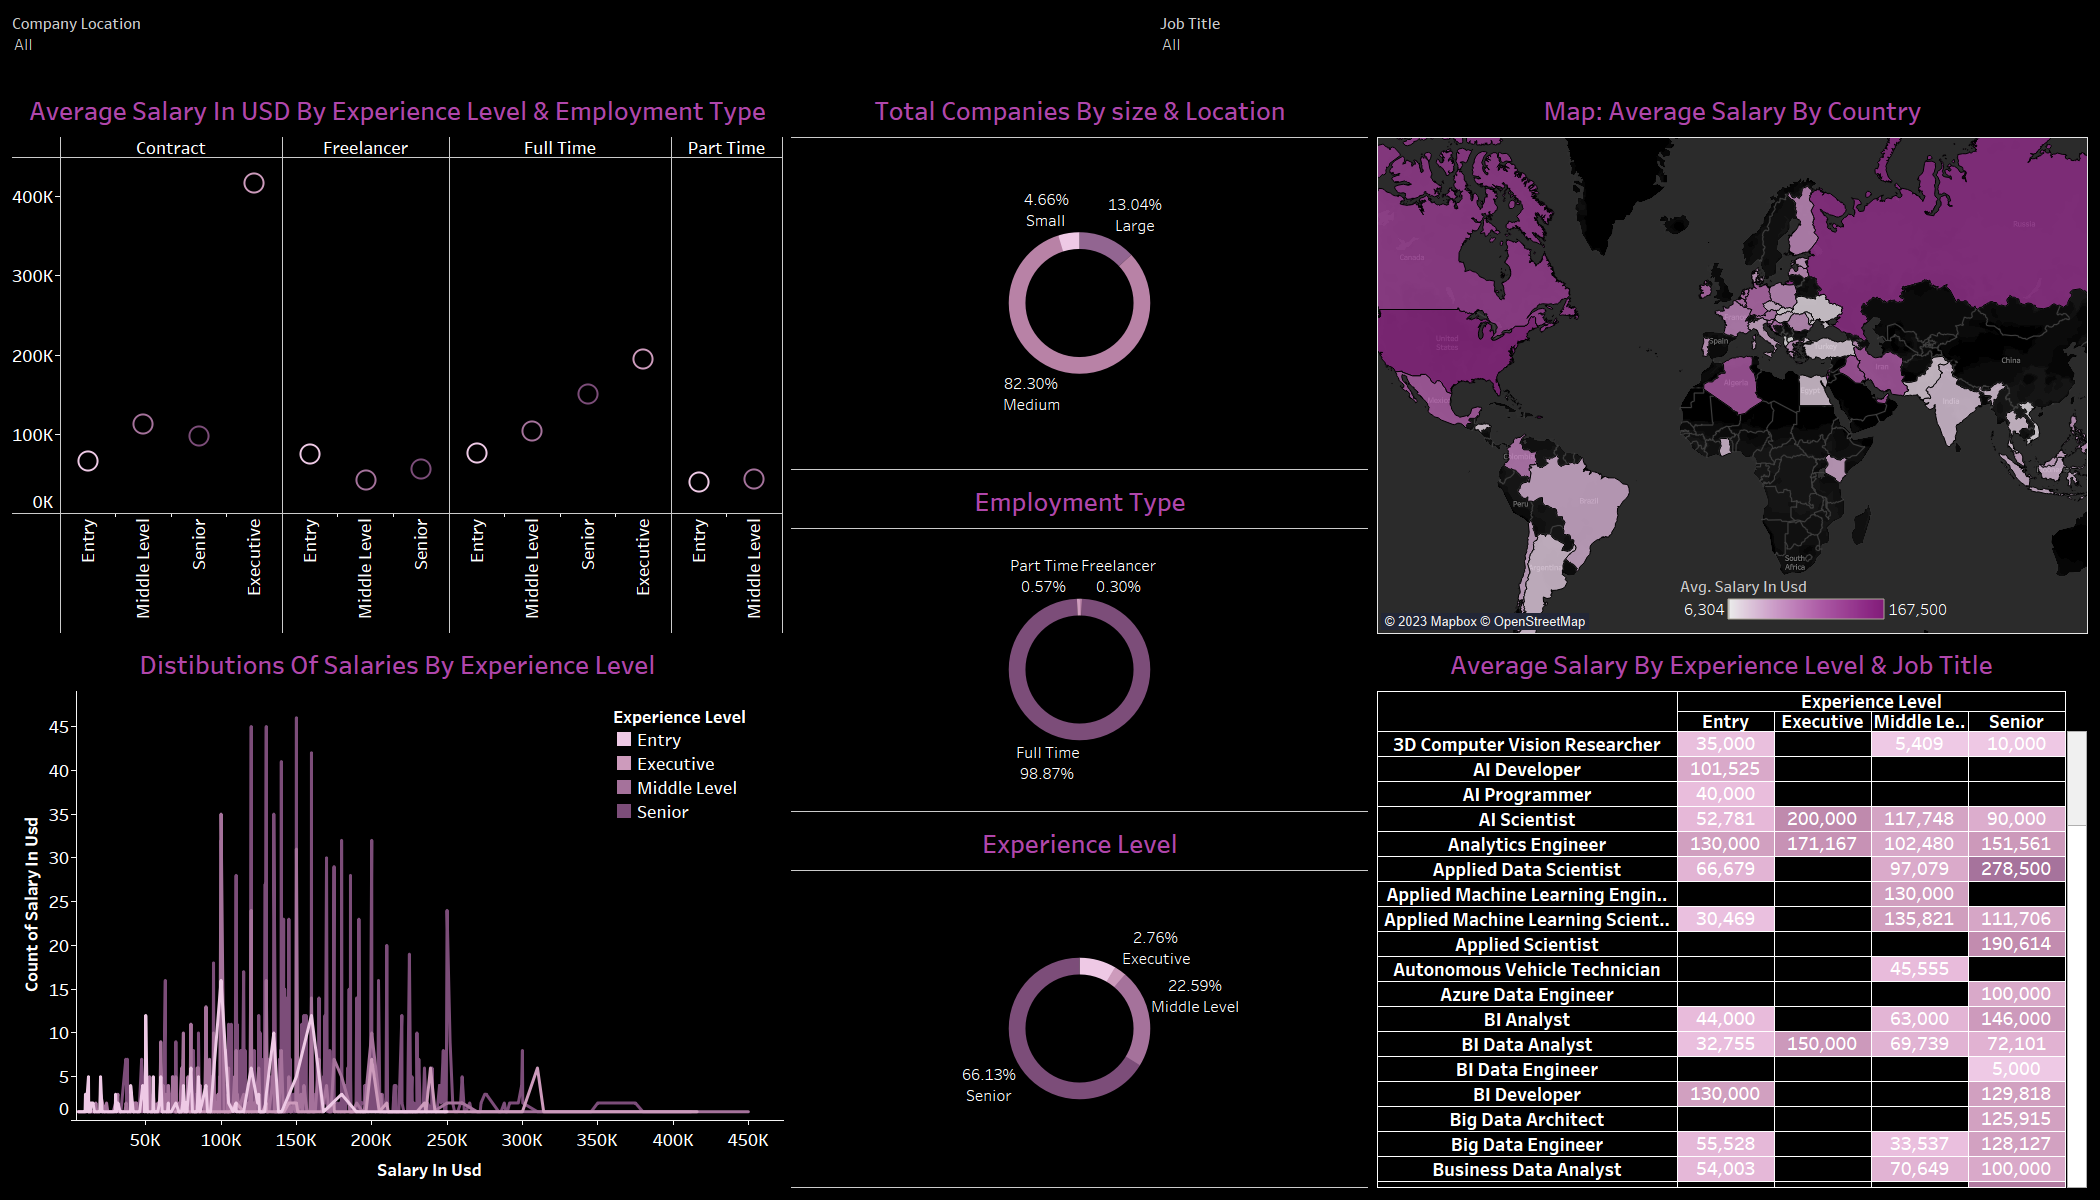

This screenshot's page, from the dashboard's own definition file:
{"tool":"tableau","page":{"name":"Dashboard 1","canvas":[2100,1200],"ordinal":0},"visuals":[{"type":"filter","title":"Experience Level","param":"[federated.0nv5o521g4rbje1aduk4g1q6os63].[none:company_location:nk]","box":[8,8,1148,61]},{"type":"filter","title":"Map: Average Salary by Country ","param":"[federated.0nv5o521g4rbje1aduk4g1q6os63].[none:job_title:nk]","box":[1156,8,936,75]},{"type":"worksheet","title":"Average Salary in USD by experience level & employment type","mark":"Shape","rows":["salary_in_usd"],"cols":["employment_type","experience_level"],"box":[8,83,779,554.5]},{"type":"worksheet","title":"Total Companies by size & Location ","mark":"Pie","rows":["Calculation_1147854958966808577","Calculation_1147854958966808577"],"box":[787,83,586,391]},{"type":"worksheet","title":"Map: Average Salary by Country ","mark":"Automatic","box":[1373,83,719,554.5]},{"type":"worksheet","title":"Employment Type","mark":"Pie","rows":["Calculation_1147854958966808577","Calculation_1147854958966808577"],"box":[787,474,586,342]},{"type":"legend","title":"Map: Average Salary by Country ","param":"[federated.0nv5o521g4rbje1aduk4g1q6os63].[avg:salary_in_usd:qk]","box":[1680,572,272,74]},{"type":"worksheet","title":"Distibutions of Salaries by Experience Level","mark":"Automatic","rows":["salary_in_usd"],"cols":["salary_in_usd"],"box":[8,637.5,779,554.5]},{"type":"worksheet","title":"Average Salary by Experience Level & Job Title","mark":"Square","rows":["job_title"],"cols":["experience_level"],"box":[1373,637.5,719,554.5]},{"type":"legend","title":"Distibutions of Salaries by Experience Level","param":"[federated.0nv5o521g4rbje1aduk4g1q6os63 (copy)].[none:experience_level:nk]","box":[612,703,140,120]},{"type":"worksheet","title":"Experience Level","mark":"Pie","rows":["Calculation_1147854958966808577","Calculation_1147854958966808577"],"box":[787,816,586,376]}]}

Visuals, with their boxes in screenshot pixels (x1, y1, x2, y2), scaled from the page's 2100x1200 canvas onto the 2100x1200 screenshot:
"Experience Level" filter: crop(8, 8, 1156, 69)
"Map: Average Salary by Country " filter: crop(1156, 8, 2092, 83)
"Average Salary in USD by experience level & employment type" worksheet (Shape marks): crop(8, 83, 787, 638)
"Total Companies by size & Location " worksheet (Pie marks): crop(787, 83, 1373, 474)
"Map: Average Salary by Country " worksheet: crop(1373, 83, 2092, 638)
"Employment Type" worksheet (Pie marks): crop(787, 474, 1373, 816)
"Map: Average Salary by Country " legend: crop(1680, 572, 1952, 646)
"Distibutions of Salaries by Experience Level" worksheet: crop(8, 638, 787, 1192)
"Average Salary by Experience Level & Job Title" worksheet (Square marks): crop(1373, 638, 2092, 1192)
"Distibutions of Salaries by Experience Level" legend: crop(612, 703, 752, 823)
"Experience Level" worksheet (Pie marks): crop(787, 816, 1373, 1192)
